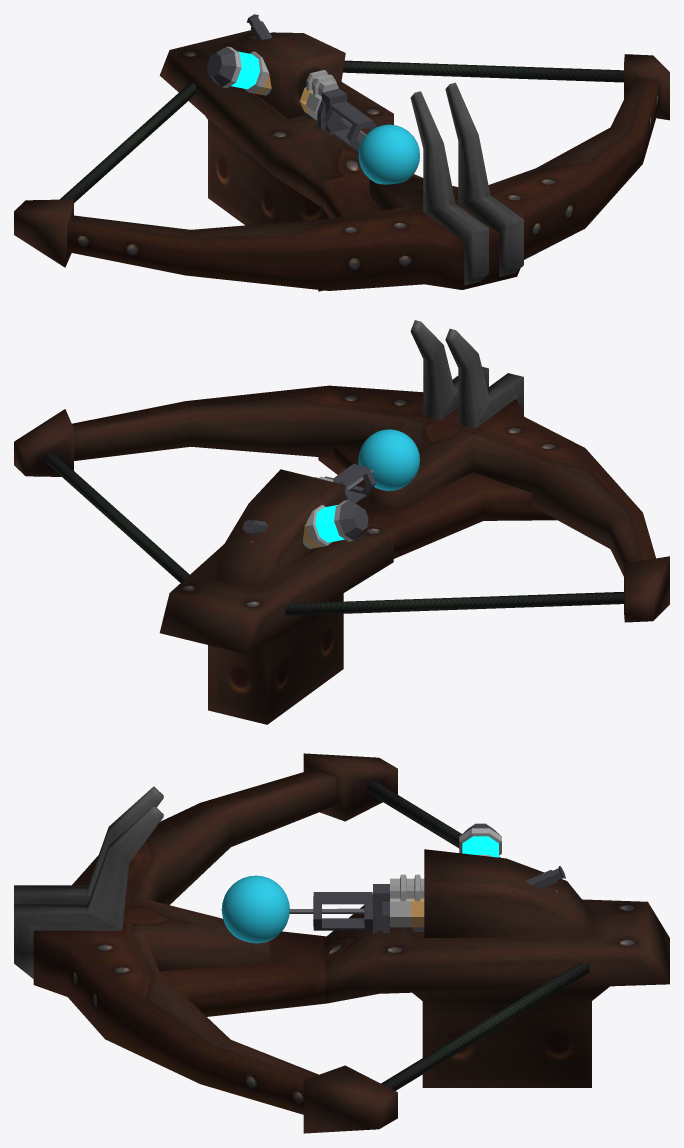
The model's file is Weapon12.fbx.
The picture shows the model from 3 angles, top to bottom: view 1: azimuth 30°, elevation 25°; view 2: azimuth 150°, elevation 25°; view 3: azimuth 270°, elevation 25°; orthographic projection. The views are drawn at different scales.
Visible parts, largest first — view 1: Skin, SM_Wep_Syringe_Gun_01, Model, SM_Wep_Syringe_Gun_Charge_01; view 2: Skin, Model, SM_Wep_Syringe_Gun_Charge_01, SM_Wep_Syringe_Gun_01; view 3: Skin, SM_Wep_Syringe_Gun_01, Model, SM_Wep_Syringe_Gun_Charge_01.
Part boxes in pixels (box(x1,y1,x2,y2)): Skin: box(14, 30, 669, 291); SM_Wep_Syringe_Gun_01: box(246, 14, 376, 151); Model: box(358, 124, 419, 184); SM_Wep_Syringe_Gun_Charge_01: box(207, 46, 271, 95); Skin: box(14, 320, 669, 724); Model: box(358, 429, 419, 490); SM_Wep_Syringe_Gun_Charge_01: box(302, 500, 368, 548); SM_Wep_Syringe_Gun_01: box(242, 463, 376, 542); Skin: box(14, 753, 669, 1133); SM_Wep_Syringe_Gun_01: box(289, 866, 565, 933); Model: box(221, 875, 289, 943); SM_Wep_Syringe_Gun_Charge_01: box(459, 823, 501, 857).
Bounding box in the file's own units: 120 × 44.32 × 95.99.
